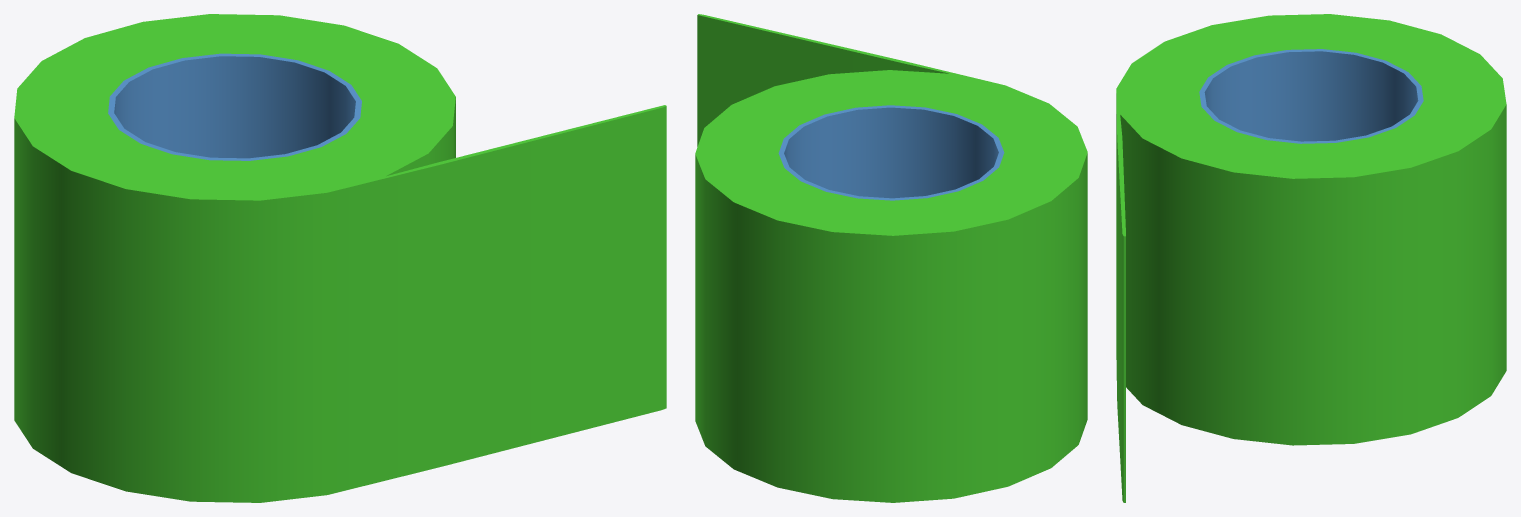
File: toaletak_long.fbx
3 renders of one model, left to right at view 1: azimuth 30°, elevation 25°; view 2: azimuth 150°, elevation 25°; view 3: azimuth 270°, elevation 25°, orthographic. The views are drawn at different scales.
Visible parts, largest first — view 1: Cylinder; view 2: Cylinder; view 3: Cylinder.
Boxes of the visible parts, bbox=[...] form: Cylinder: bbox=[14, 14, 666, 502]; Cylinder: bbox=[695, 14, 1087, 502]; Cylinder: bbox=[1116, 14, 1506, 502].
Size of the model in its own units: 20.2 by 11.3 by 14.98.
